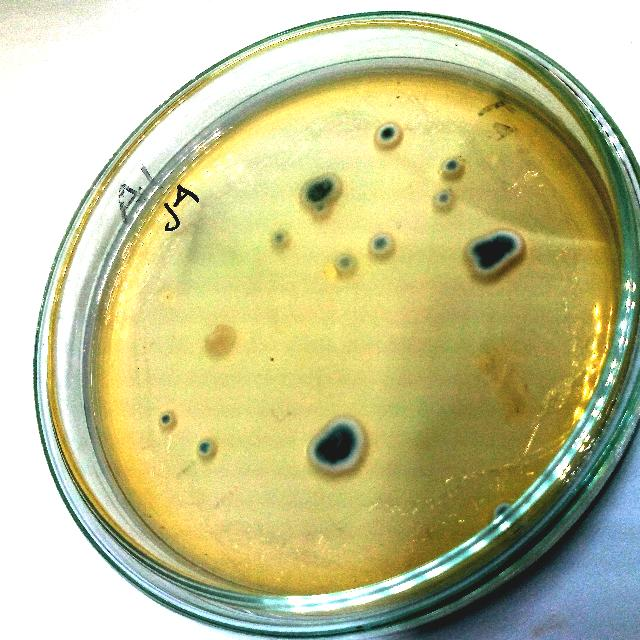colony: (308, 415, 370, 477), (200, 323, 246, 361), (368, 115, 404, 151), (494, 228, 524, 258), (330, 250, 360, 278), (365, 232, 395, 260), (316, 172, 344, 200), (437, 154, 467, 180), (429, 186, 458, 210), (192, 434, 218, 460), (474, 253, 502, 277), (302, 180, 326, 206), (156, 408, 178, 432), (466, 236, 490, 258), (269, 227, 291, 247), (311, 200, 329, 216)
